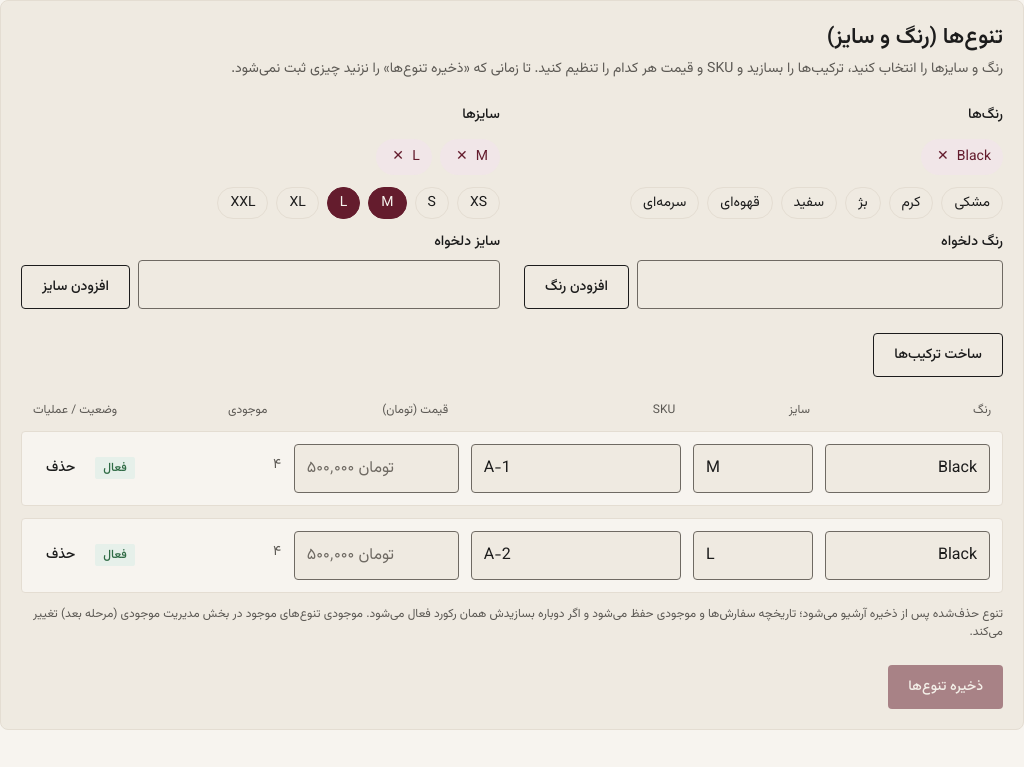
Scenario: Variant Builder › 6) اعتبارسنجی: ترکیب و SKU تکراری و قیمت نامعتبر، ذخیره را متوقف می‌کند
Expected: the list named "فهرست تنوع‌ها" is shown, [21, 431, 1003, 593]
Replace the text in the 5th field named "سایز تنوع ۲" with " m ": [753, 556] box [693, 531, 813, 580]
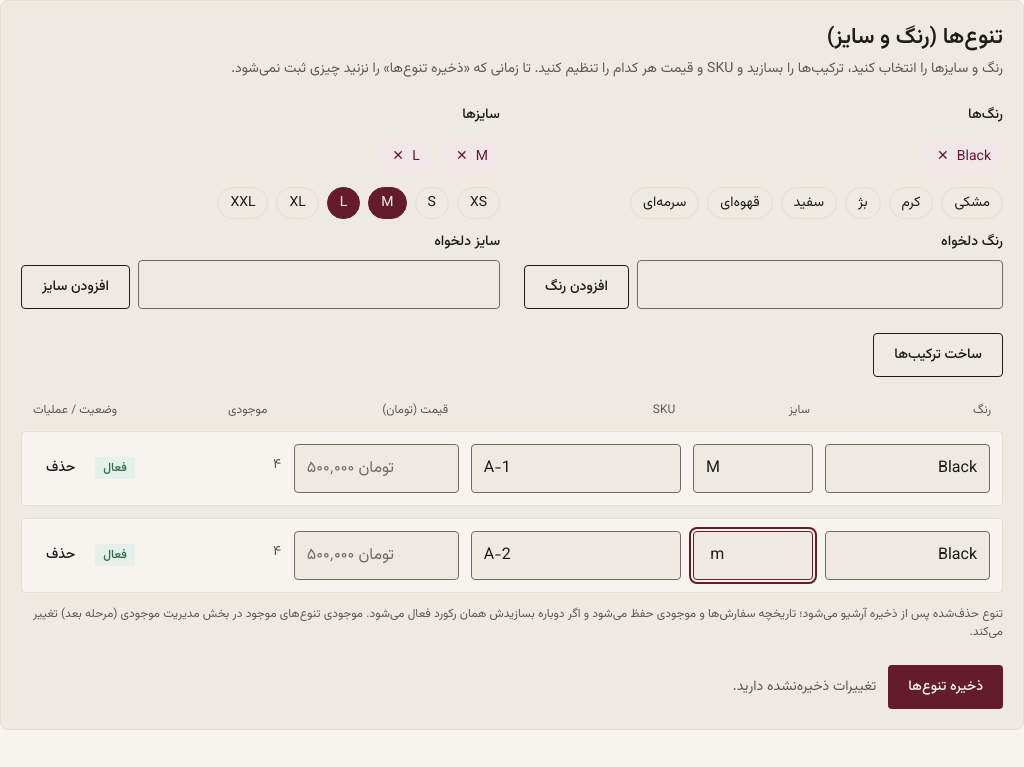
Replace the text in the 4th field named "SKU تنوع ۲" with "a-1": [576, 556] box [471, 531, 681, 580]
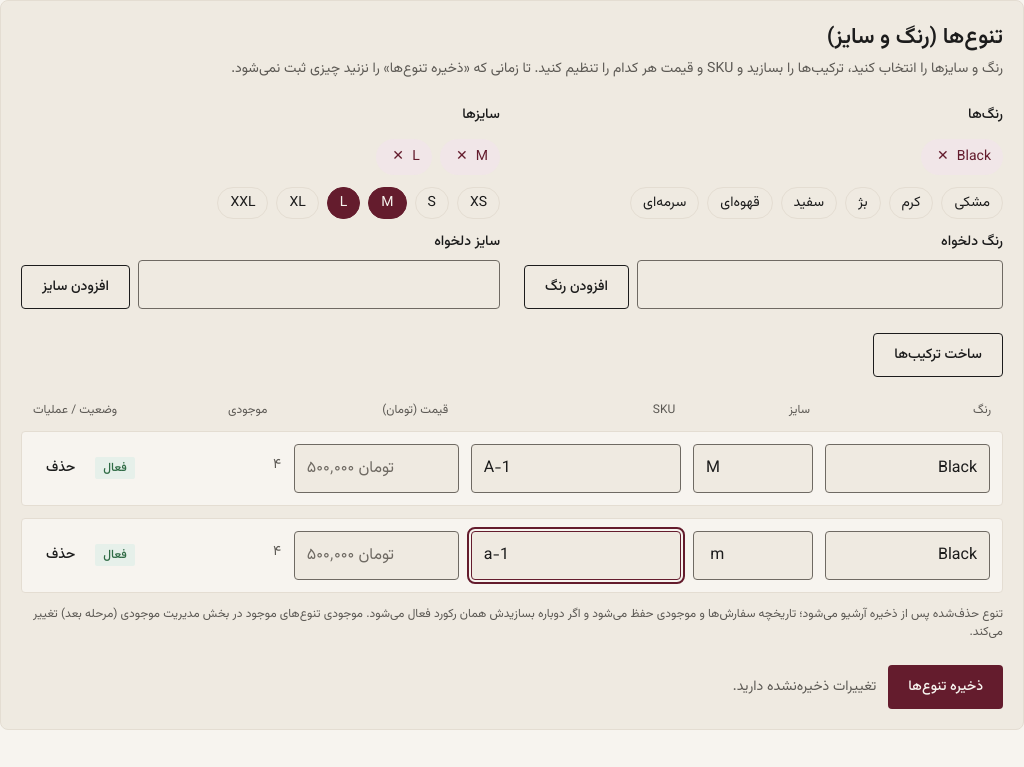
In the field named "قیمت تنوع ۱": [376, 468] box [294, 444, 459, 493], type "-5"
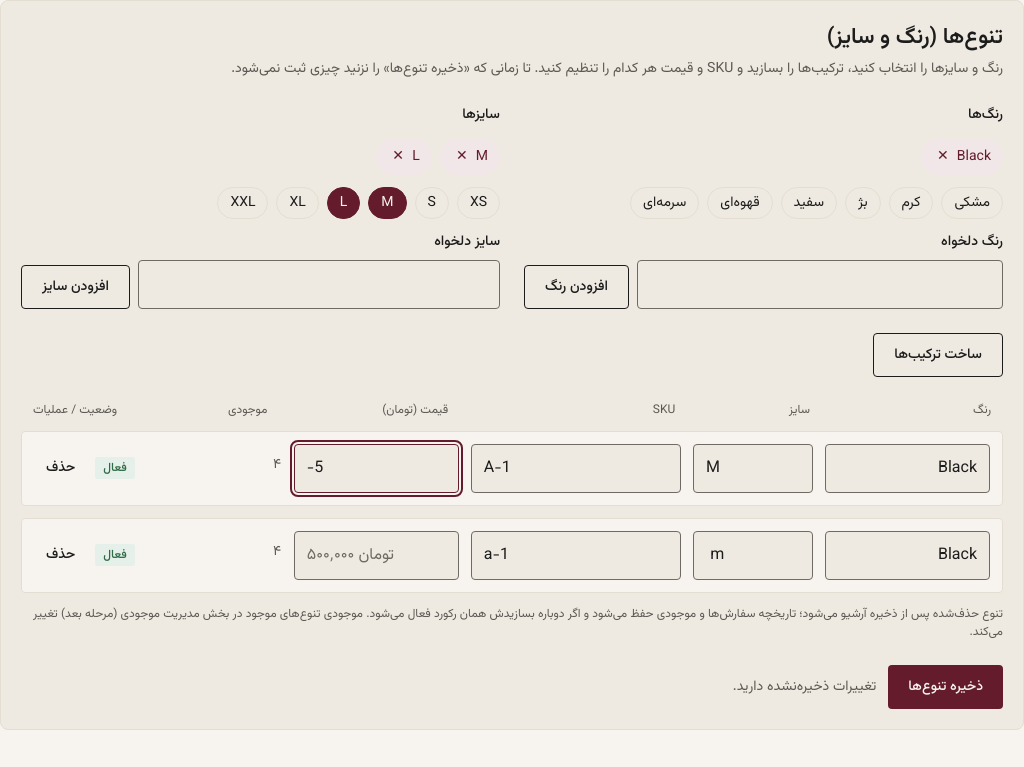
Click the button "ذخیره تنوع‌ها": [946, 687] box [888, 665, 1003, 709]
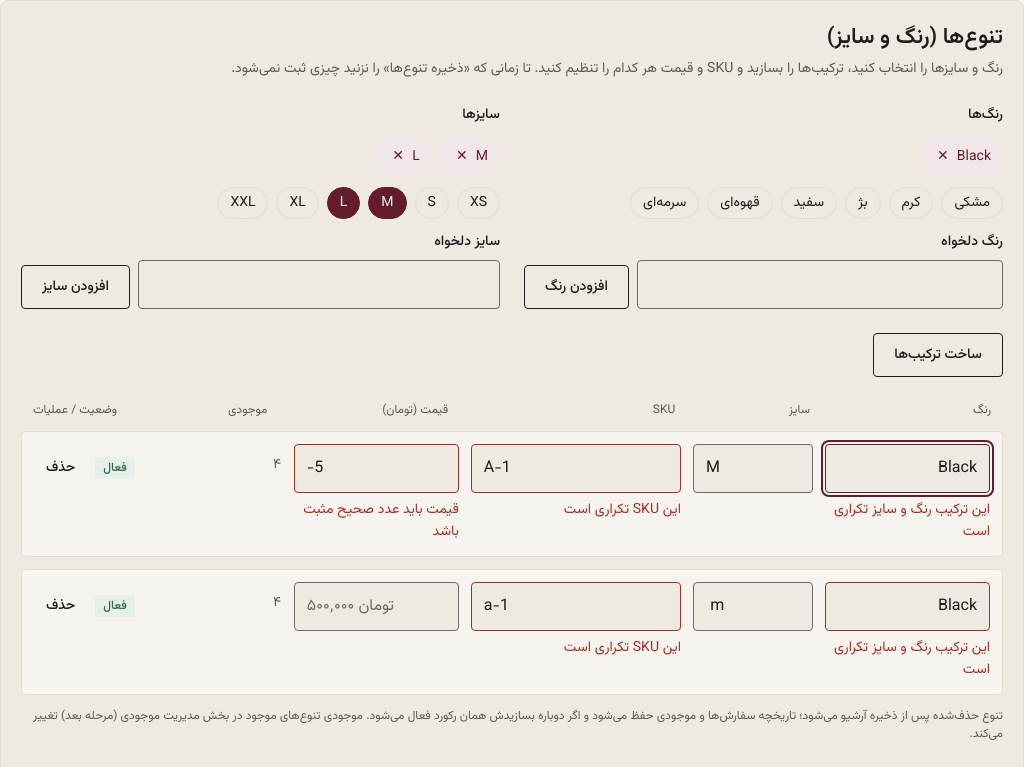
Result: the text "این ترکیب رنگ و سایز تکراری است" in the row of "قیمت باید عدد صحیح مثبت باشد" is shown at [834, 499, 990, 543]
Result: the text "این SKU تکراری است" next to "قیمت باید عدد صحیح مثبت باشد" is shown at [564, 499, 681, 521]
Result: the text "قیمت باید عدد صحیح مثبت باشد" is shown at [294, 499, 459, 544]
